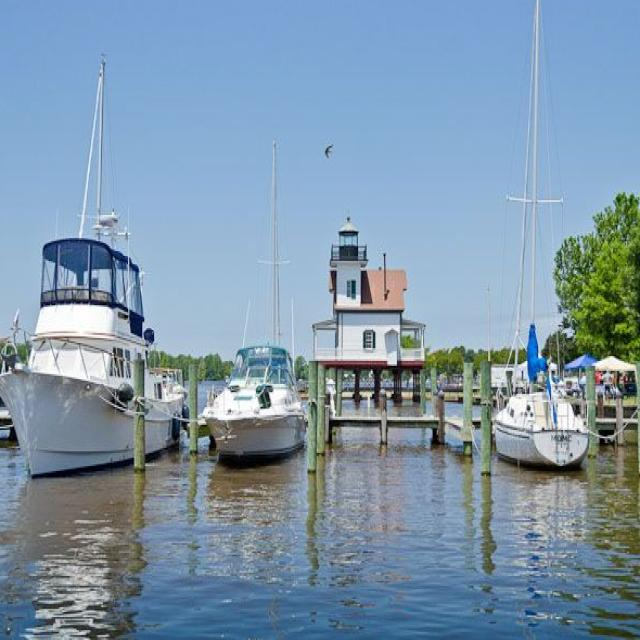houseboat: (12, 155, 184, 477), (196, 311, 302, 464), (496, 363, 591, 468)
